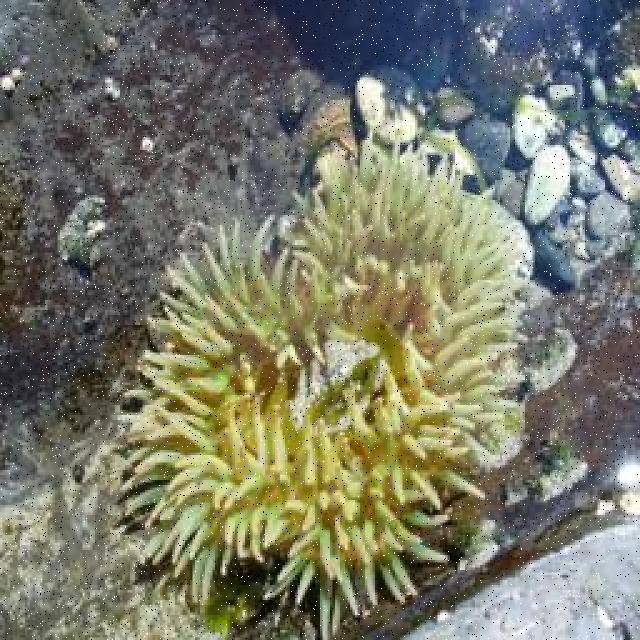reefs: (106, 124, 535, 638)
